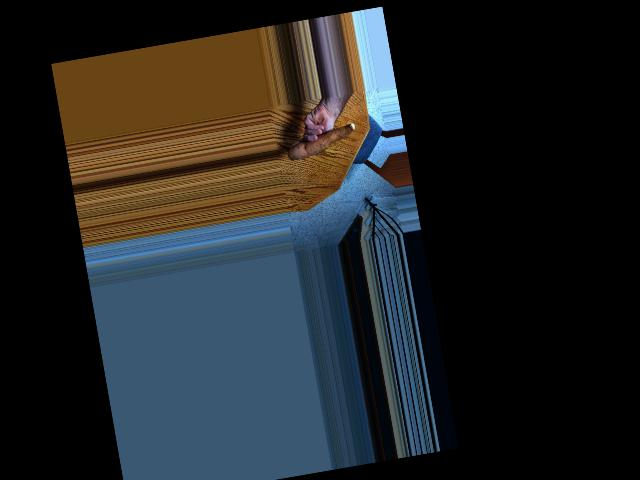sweet_potato: (286, 121, 361, 165)
